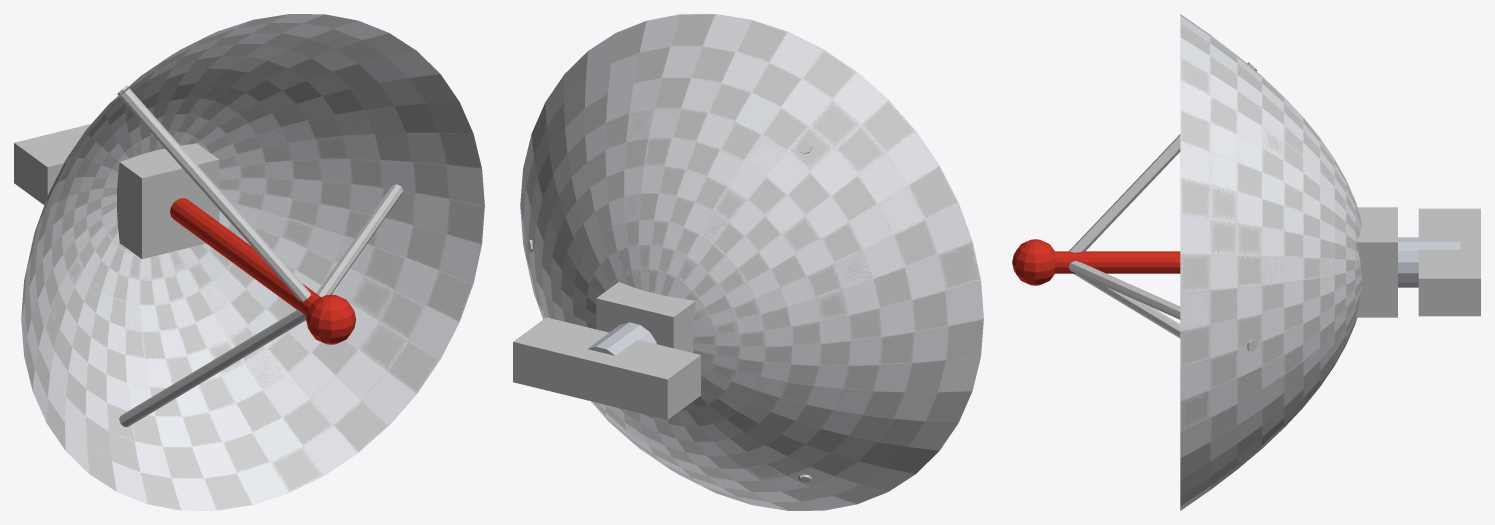
The model's file is radar_dish_component.obj.
3 renders of one model, left to right at view 1: azimuth 30°, elevation 25°; view 2: azimuth 150°, elevation 25°; view 3: azimuth 270°, elevation 25°, orthographic. The views are drawn at different scales.
Visible parts, largest first — view 1: radar_dish_component; view 2: radar_dish_component; view 3: radar_dish_component.
Part boxes in pixels (x1,y1,x2,y2): radar_dish_component: (14, 14, 484, 510); radar_dish_component: (513, 14, 983, 510); radar_dish_component: (1012, 14, 1480, 510).
Size of the model in its own units: 0.96 by 0.96 by 0.905.
